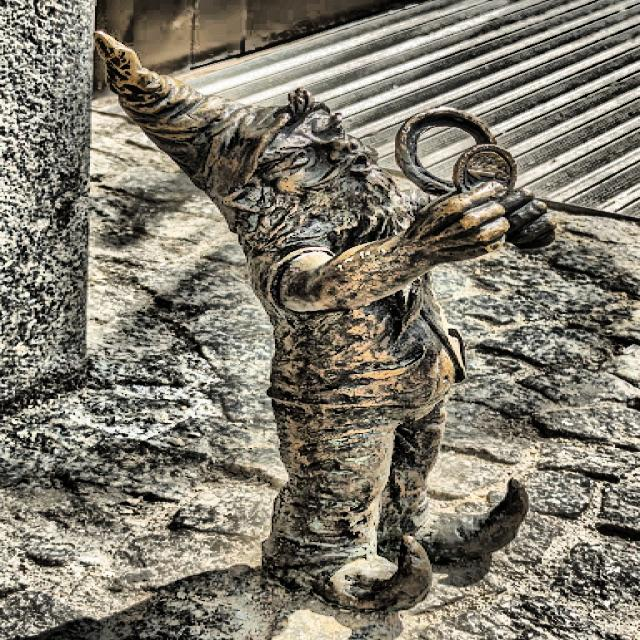Kolekcjoner: (97, 33, 554, 609)
